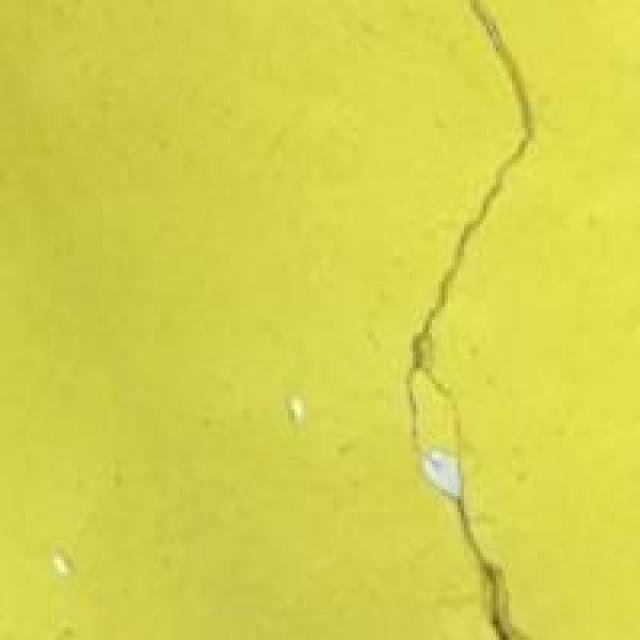Crack: (397, 0, 547, 637)
